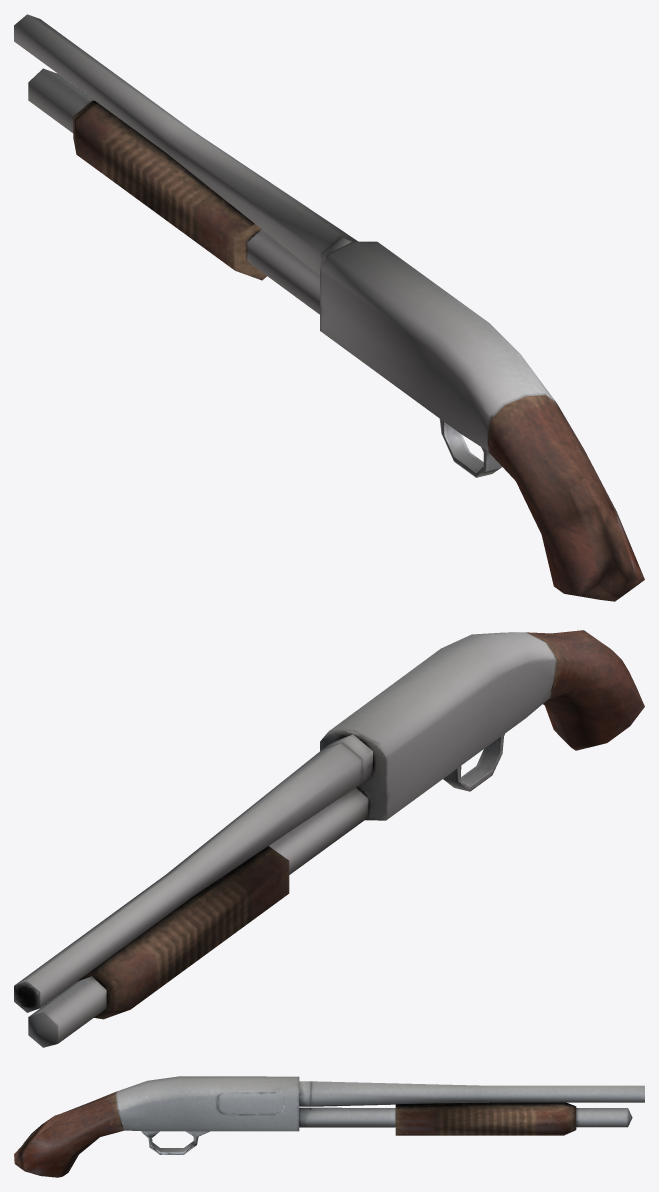
The model's file is Mossberg_Wood_Sawed.fbx.
3 views of the same model, one above another, from view 1: azimuth 30°, elevation 25°; view 2: azimuth 150°, elevation 25°; view 3: azimuth 270°, elevation 25° (orthographic). The views are drawn at different scales.
Parts seen in each view (by area): view 1: Mossberg_Wood_Sawed; view 2: Mossberg_Wood_Sawed; view 3: Mossberg_Wood_Sawed.
Part boxes in pixels (x1,y1,x2,y2): Mossberg_Wood_Sawed: [14, 14, 644, 601]; Mossberg_Wood_Sawed: [14, 630, 644, 1047]; Mossberg_Wood_Sawed: [14, 1076, 644, 1177].
Size of the model in its own units: 0.0275 by 0.4271 by 0.0728.
